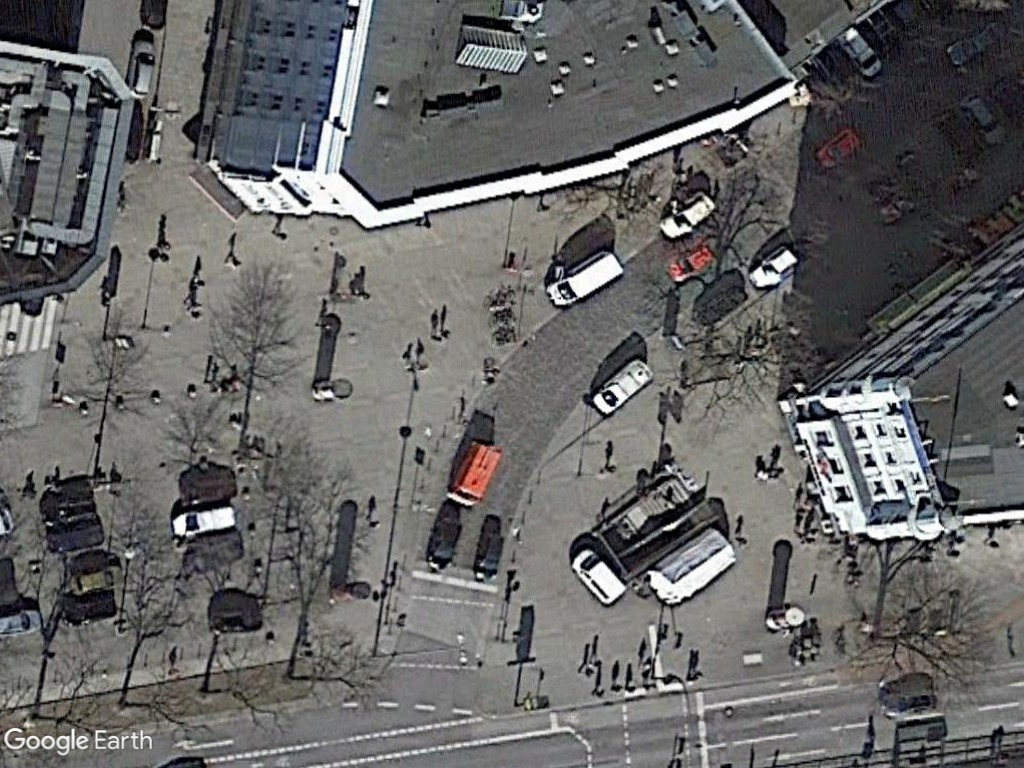van: (544, 247, 628, 312), (588, 356, 655, 420), (566, 545, 630, 609), (165, 500, 240, 543)
